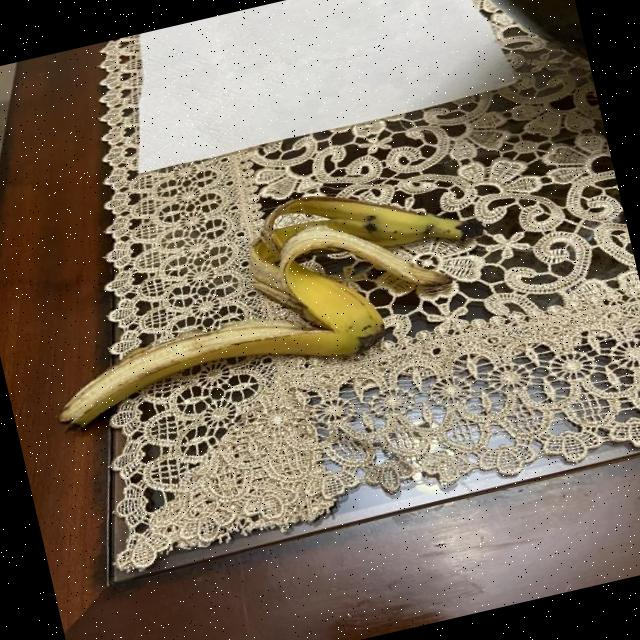banana-peel: (21, 158, 503, 434)
